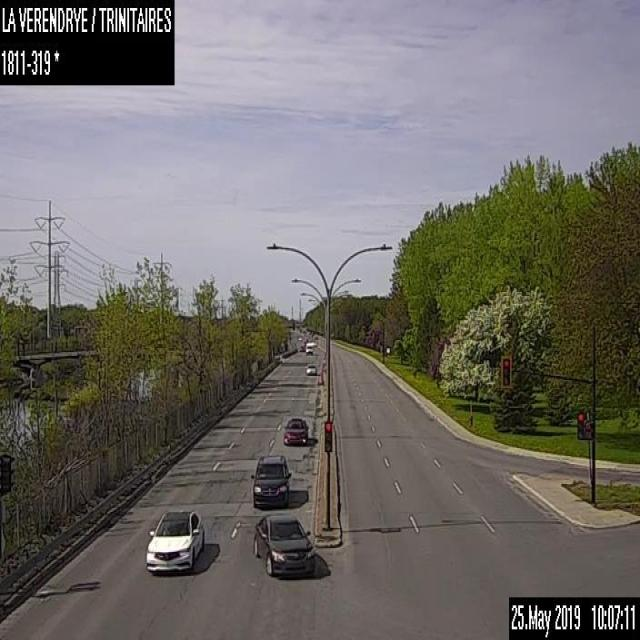vehicle: (143, 506, 204, 574), (252, 512, 313, 578), (250, 454, 291, 506), (282, 415, 308, 445), (304, 361, 318, 375), (304, 340, 312, 355), (303, 336, 309, 343), (298, 344, 304, 350)
